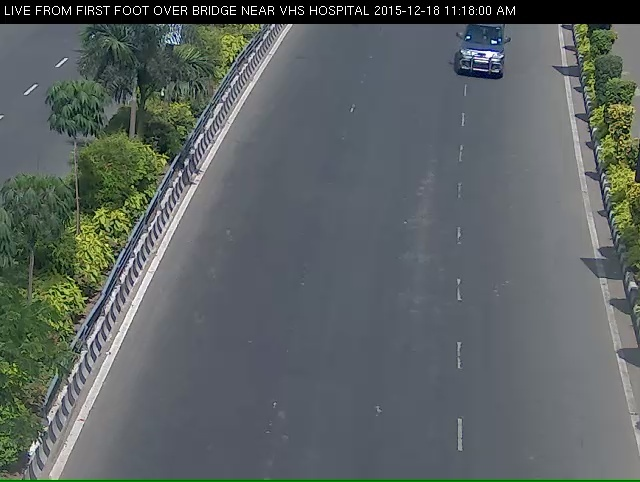Car: (451, 23, 505, 86)
